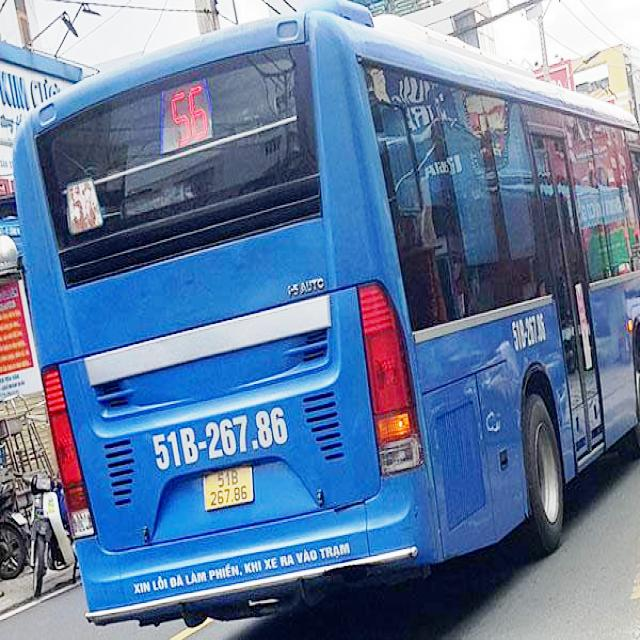license_plate: (204, 465, 256, 512)
